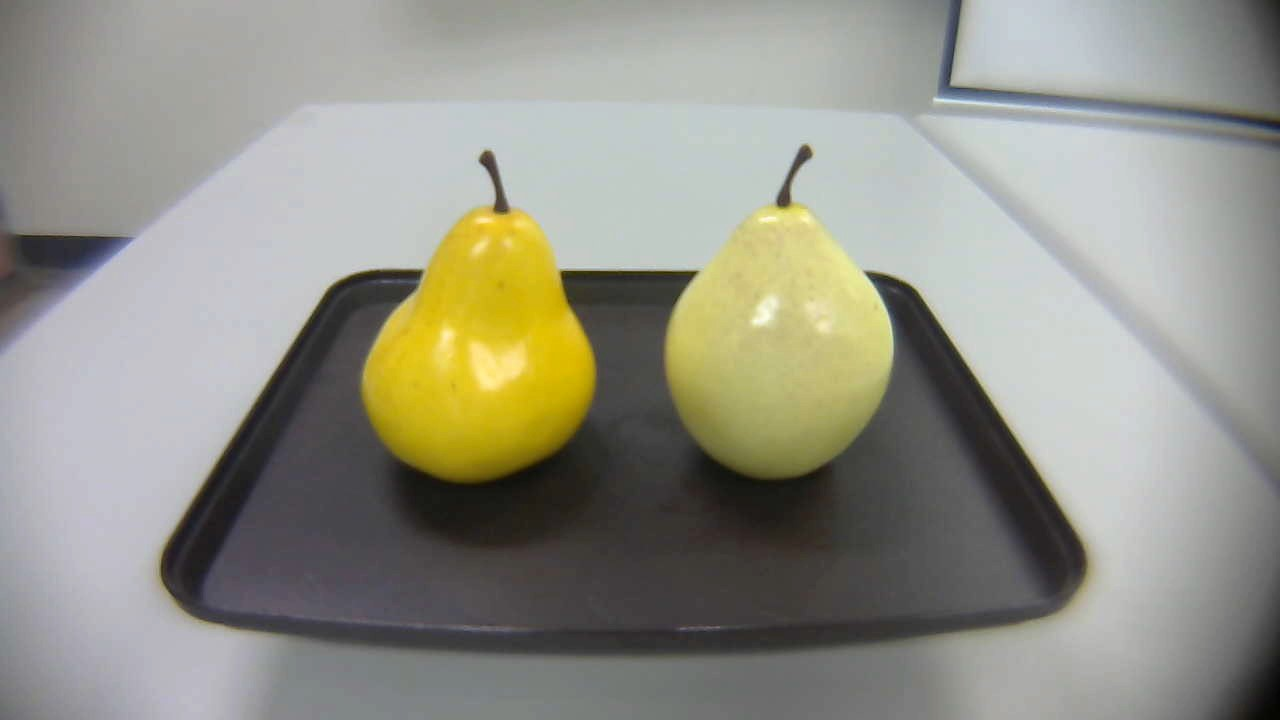western pear: (644, 137, 899, 498)
yellow pear: (334, 142, 604, 492)
